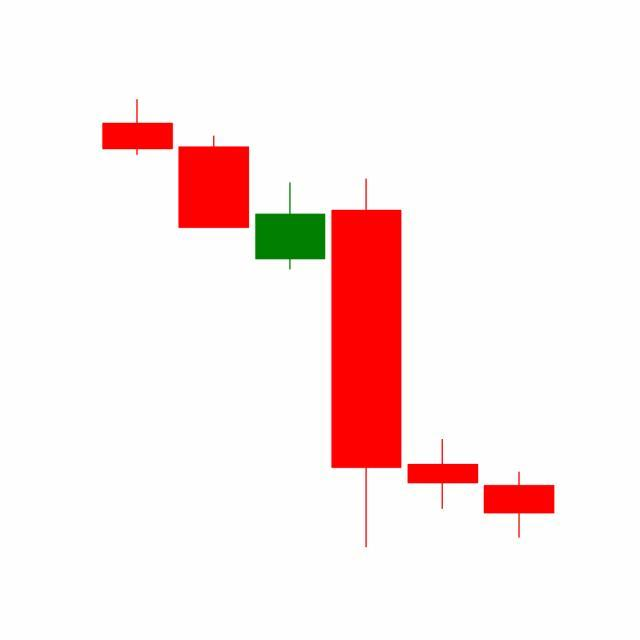Hikkake Pattern: (175, 131, 555, 549)
